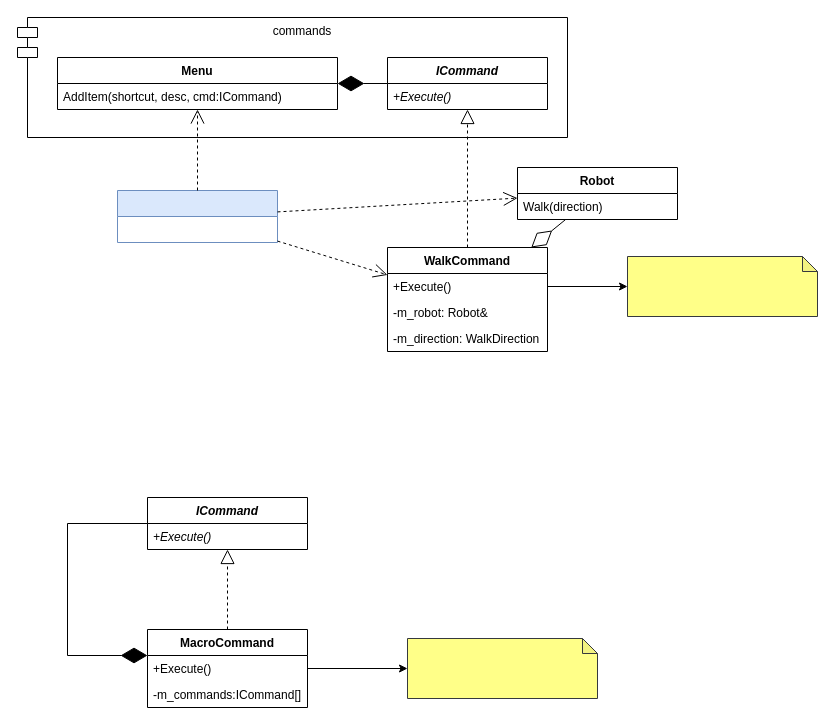
Image size: 836x728. Some labels were removed from this diagram. The centre of each missing label's shape, as x and y in pixels:
Client: (197,216)
for (cmd: m_commands) cmd.Execute();: (502,668)
m_robot.Walk(m_direction);: (722,286)
